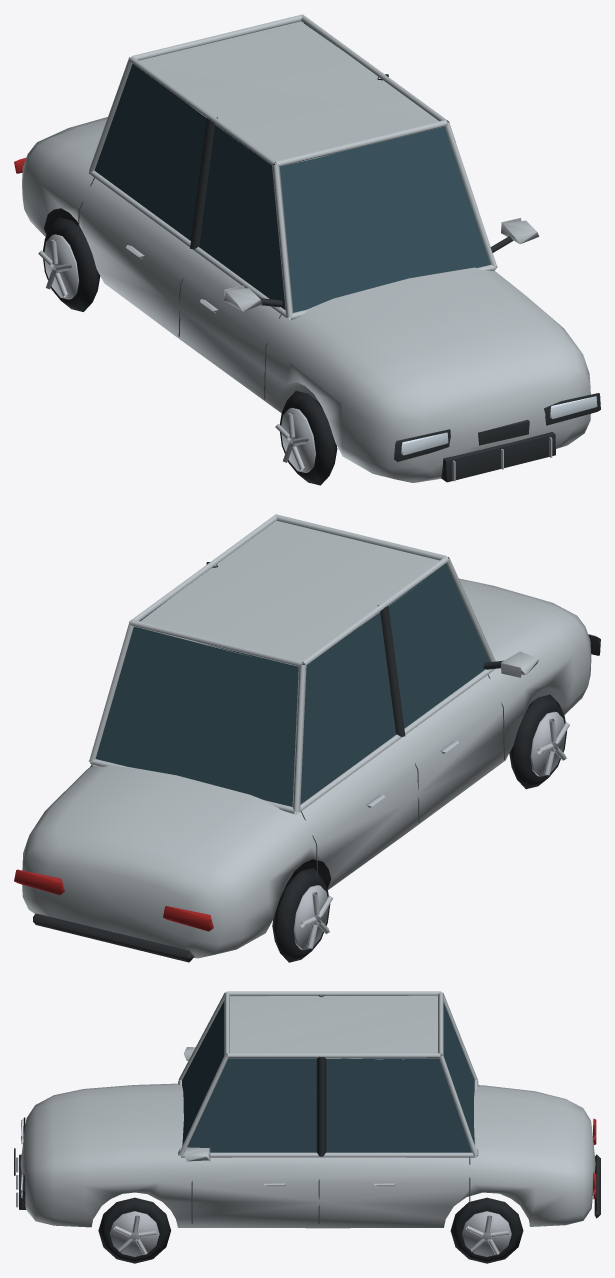
Rendered from vehicle-van-lod2.glb.
3 views of the same model, one above another, from view 1: azimuth 30°, elevation 25°; view 2: azimuth 150°, elevation 25°; view 3: azimuth 270°, elevation 25° (orthographic). The views are drawn at different scales.
Visible parts, largest first — view 1: vehicle-van_MATERIAL_BATCH; view 2: vehicle-van_MATERIAL_BATCH; view 3: vehicle-van_MATERIAL_BATCH.
Boxes of the visible parts, x1=… form: vehicle-van_MATERIAL_BATCH: x1=14, y1=14, x2=600, y2=485; vehicle-van_MATERIAL_BATCH: x1=14, y1=514, x2=600, y2=962; vehicle-van_MATERIAL_BATCH: x1=14, y1=991, x2=600, y2=1263.
Size of the model in its own units: 2.31 by 1.97 by 5.24.
